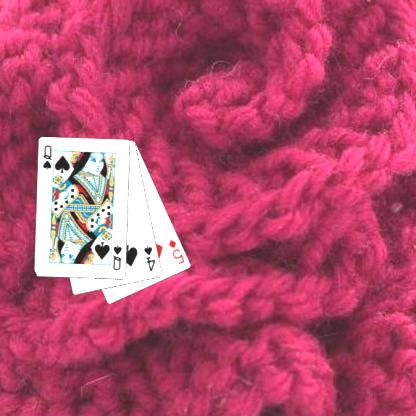4S: (141, 243, 157, 273)
5D: (166, 236, 186, 266)
QS: (110, 243, 124, 272), (40, 143, 53, 171)
